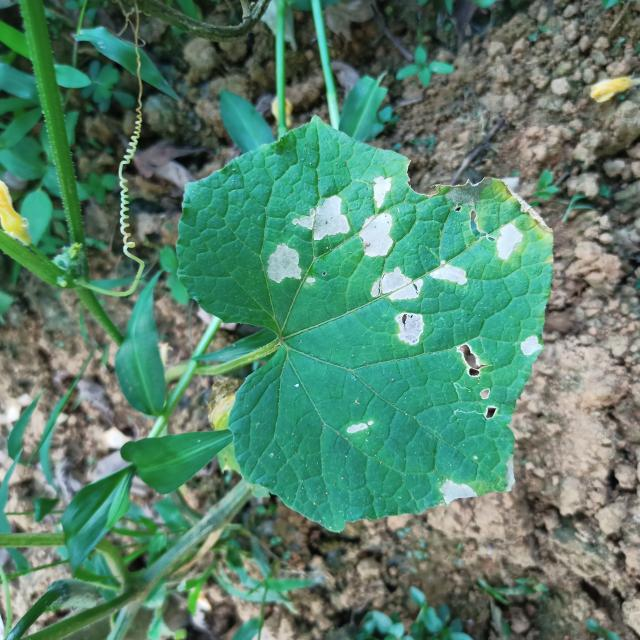disease_cucumber: (370, 260, 470, 349), (456, 337, 499, 423), (359, 175, 396, 262), (291, 194, 353, 243), (263, 239, 321, 291), (494, 222, 522, 270), (431, 476, 476, 505), (518, 331, 544, 364), (344, 417, 375, 438)
